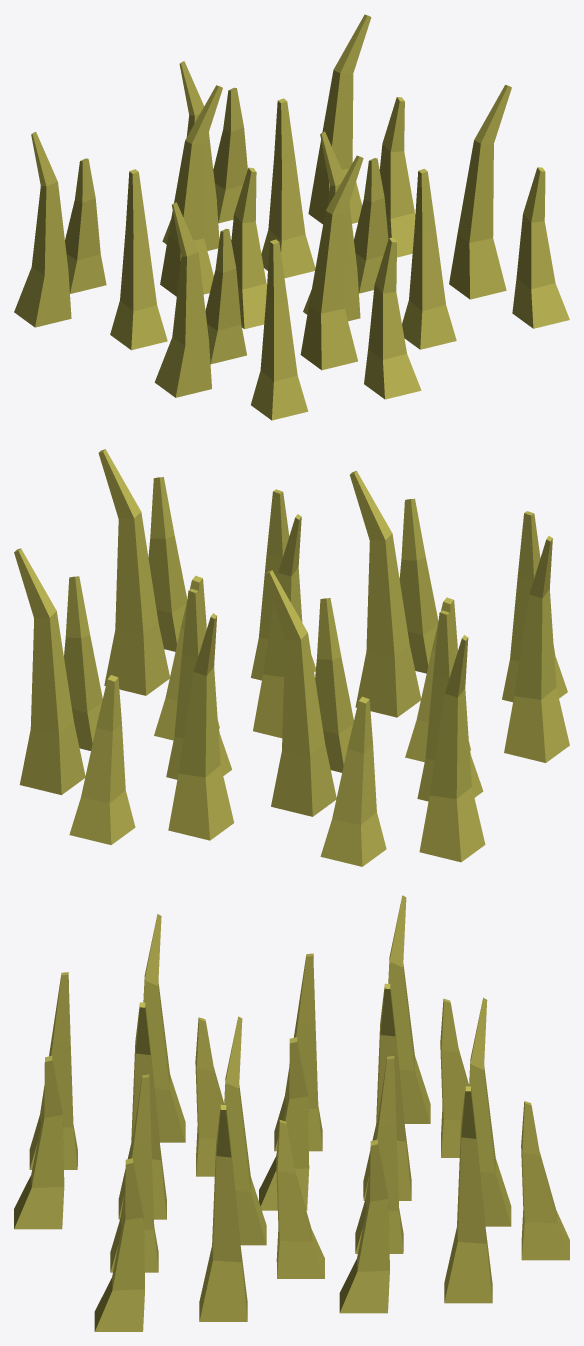
Rendered from Grass1.fbx.
The picture shows the model from 3 angles, top to bottom: view 1: azimuth 30°, elevation 25°; view 2: azimuth 150°, elevation 25°; view 3: azimuth 270°, elevation 25°; orthographic projection. The views are drawn at different scales.
Visible parts, largest first — view 1: Cube.005; view 2: Cube.005; view 3: Cube.005.
Boxes of the visible parts, bbox=[...] form: Cube.005: bbox=[14, 14, 569, 420]; Cube.005: bbox=[14, 449, 569, 866]; Cube.005: bbox=[14, 895, 569, 1331].
Size of the model in its own units: 208 by 95.05 by 215.
